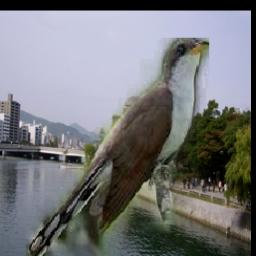Cuckoo: (26, 39, 209, 256)
